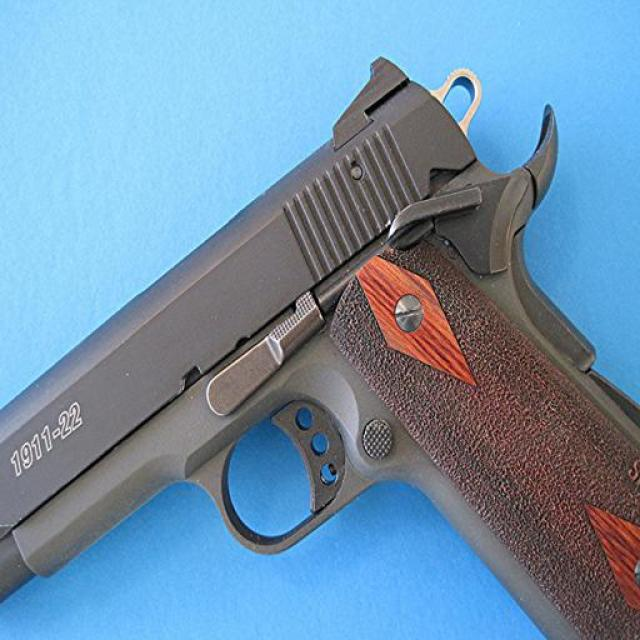pistol: (1, 52, 637, 635)
